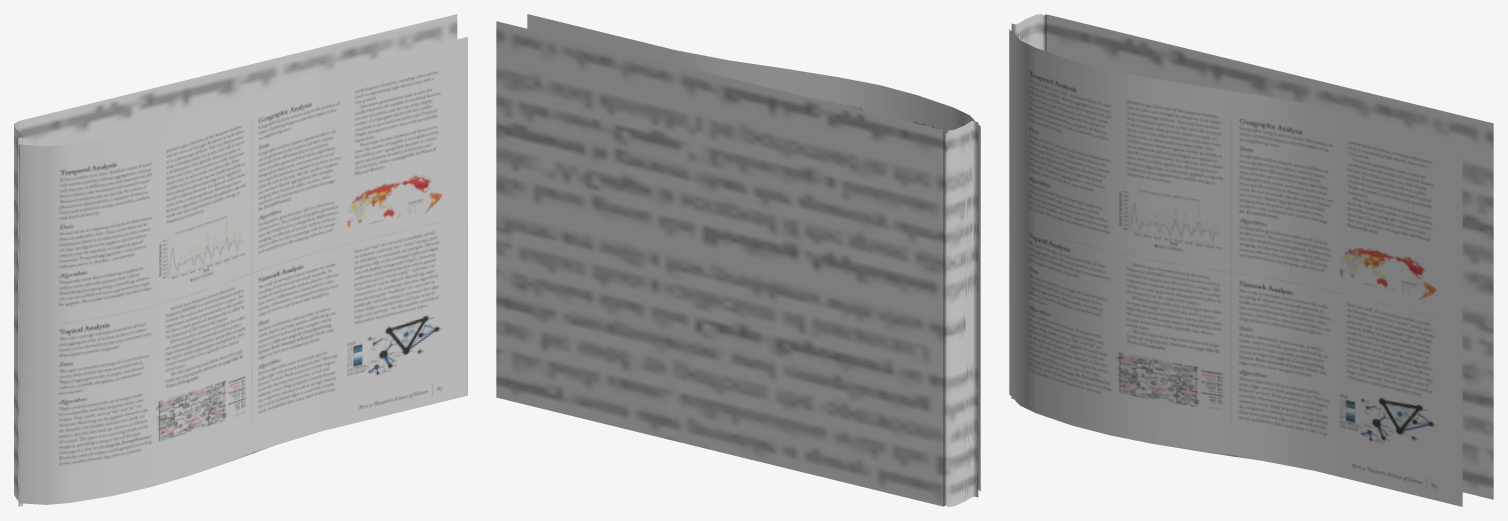
File: MeshBook_1_0_GeomSubset_1.obj
3 renders of one model, left to right at view 1: azimuth 30°, elevation 25°; view 2: azimuth 150°, elevation 25°; view 3: azimuth 330°, elevation 25°, orthographic.
Visible parts, largest first — view 1: MeshBook_1_0_GeomSubset_1; view 2: MeshBook_1_0_GeomSubset_1; view 3: MeshBook_1_0_GeomSubset_1.
Part boxes in pixels (<box>): MeshBook_1_0_GeomSubset_1: <box>14,14,467,506</box>; MeshBook_1_0_GeomSubset_1: <box>496,14,980,506</box>; MeshBook_1_0_GeomSubset_1: <box>1009,14,1493,506</box>.
Bounding box in the file's own units: 0.4253 × 0.3288 × 0.058.
1 material, 1 textured.
